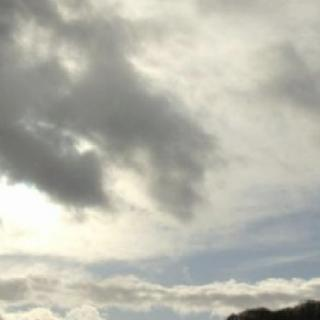Cumulus: (0, 1, 320, 310)
